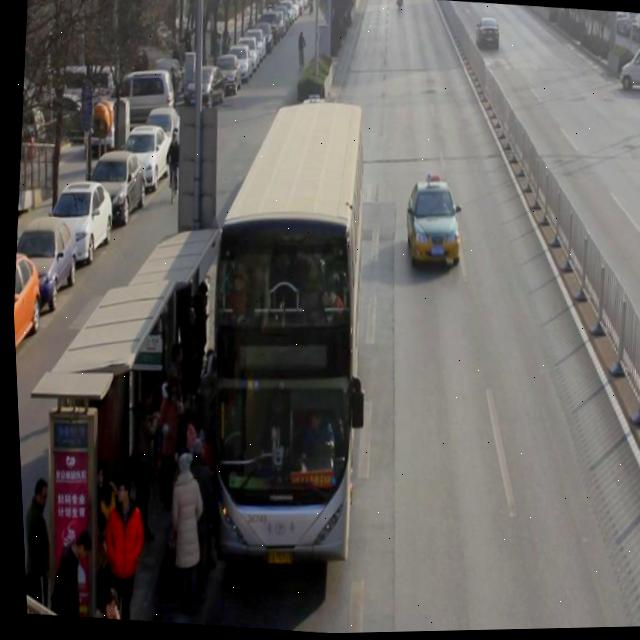car: (396, 177, 466, 283), (473, 20, 500, 58)
truck: (615, 48, 640, 102)
van: (180, 101, 381, 572)
